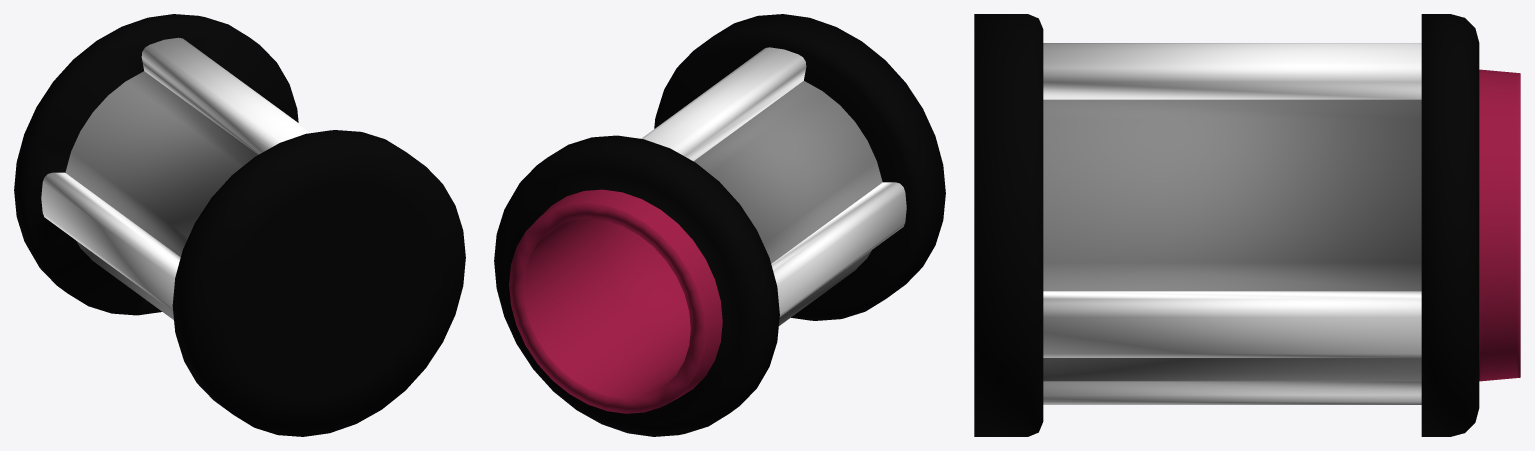
File: Spawner.dae
The picture shows the model from 3 angles, left to right: view 1: azimuth 30°, elevation 25°; view 2: azimuth 150°, elevation 25°; view 3: azimuth 270°, elevation 25°; orthographic projection. The views are drawn at different scales.
Parts seen in each view (by area): view 1: Cylinder; view 2: Cylinder; view 3: Cylinder.
Part boxes in pixels (left/top/right/bottom): Cylinder: left=14, top=14, right=465, bottom=436; Cylinder: left=494, top=14, right=945, bottom=436; Cylinder: left=974, top=14, right=1520, bottom=436.
Bounding box in the file's own units: 2.71 × 3.5 × 2.71.
